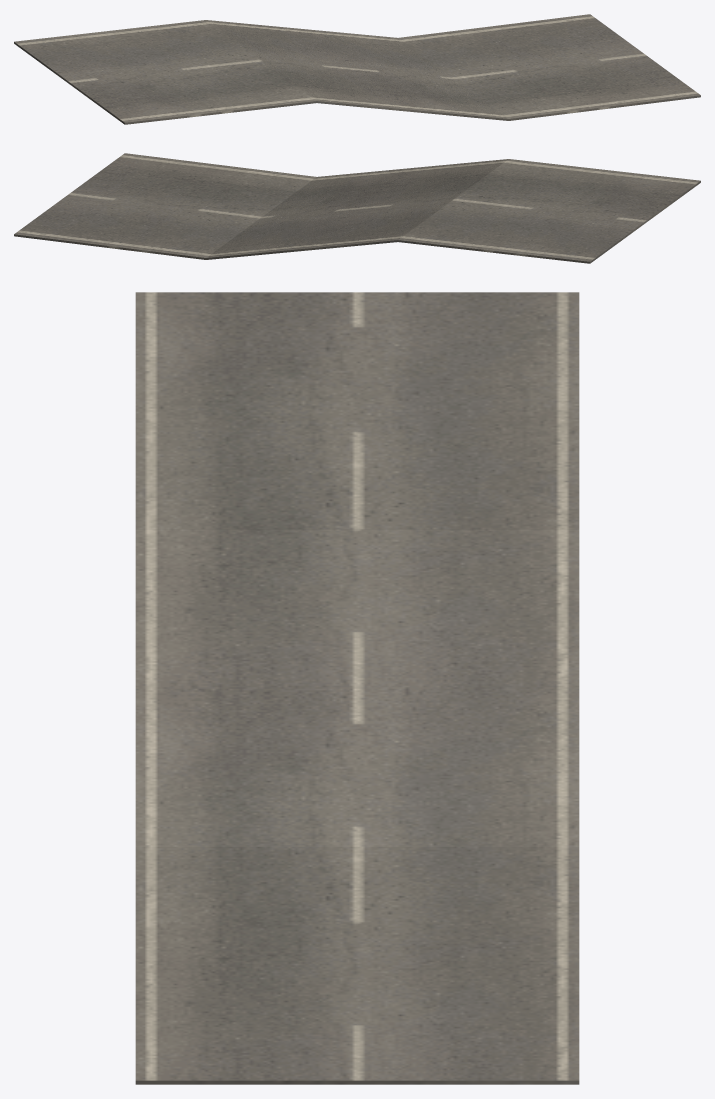
File: Urban_Road4SlopeNoSides_Model.fbx
3 renders of one model, top to bottom at view 1: azimuth 30°, elevation 25°; view 2: azimuth 150°, elevation 25°; view 3: azimuth 270°, elevation 25°, orthographic. The views are drawn at different scales.
Parts seen in each view (by area): view 1: Urban_Road4SlopeNoSides_Mesh; view 2: Urban_Road4SlopeNoSides_Mesh; view 3: Urban_Road4SlopeNoSides_Mesh.
Part boxes in pixels (box(x1,y1,x2,y2)): Urban_Road4SlopeNoSides_Mesh: box(14, 14, 700, 124); Urban_Road4SlopeNoSides_Mesh: box(14, 153, 700, 263); Urban_Road4SlopeNoSides_Mesh: box(135, 292, 579, 1084).
Size of the model in its own units: 48 by 9.16 by 16.
